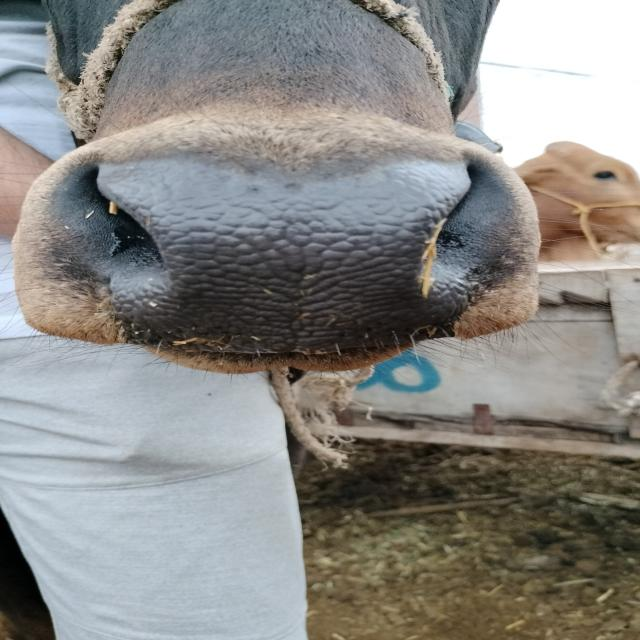muzzles: (54, 122, 525, 353)
